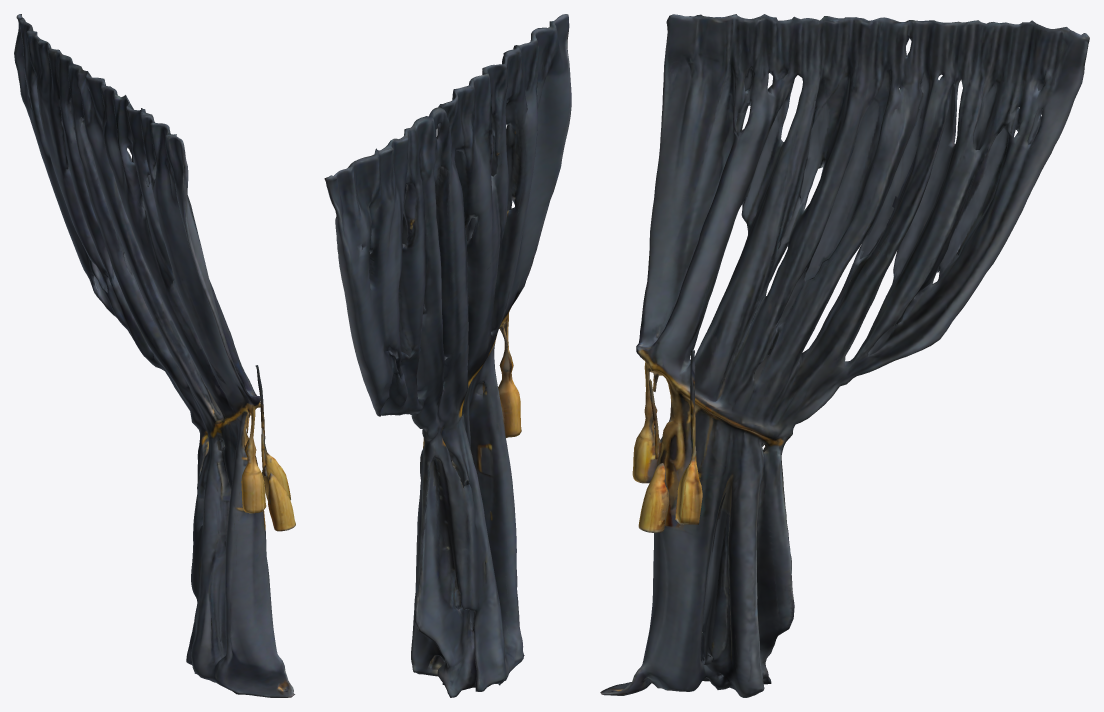
The model's file is Curtain_Elegance_1124123659.fbx.
3 renders of one model, left to right at view 1: azimuth 30°, elevation 25°; view 2: azimuth 150°, elevation 25°; view 3: azimuth 270°, elevation 25°, orthographic. The views are drawn at different scales.
Parts seen in each view (by area): view 1: Mesh1_Mesh1.180; view 2: Mesh1_Mesh1.180; view 3: Mesh1_Mesh1.180.
Part boxes in pixels (bbox=[...]): Mesh1_Mesh1.180: bbox=[14, 14, 295, 697]; Mesh1_Mesh1.180: bbox=[324, 14, 571, 697]; Mesh1_Mesh1.180: bbox=[600, 14, 1089, 697].
Bounding box in the file's own units: 43.76 × 199 × 137.
1 material, 1 textured.
